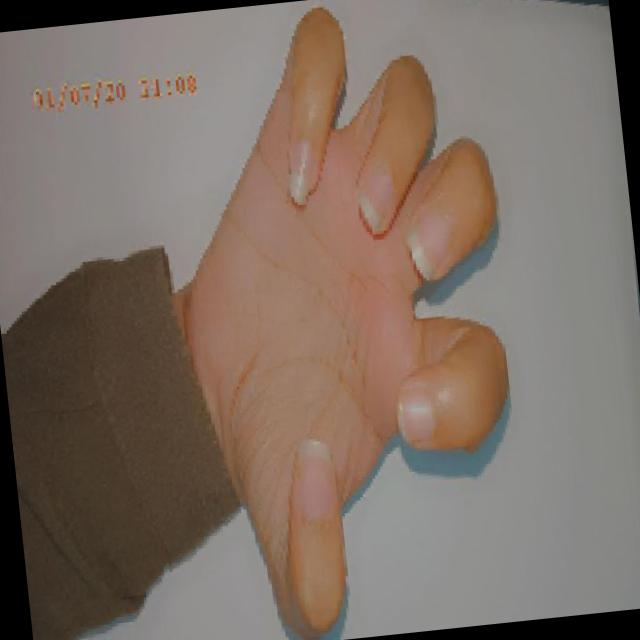Nail: (296, 438, 333, 519), (406, 212, 448, 280), (358, 162, 393, 235), (396, 396, 432, 443), (289, 140, 313, 204)
